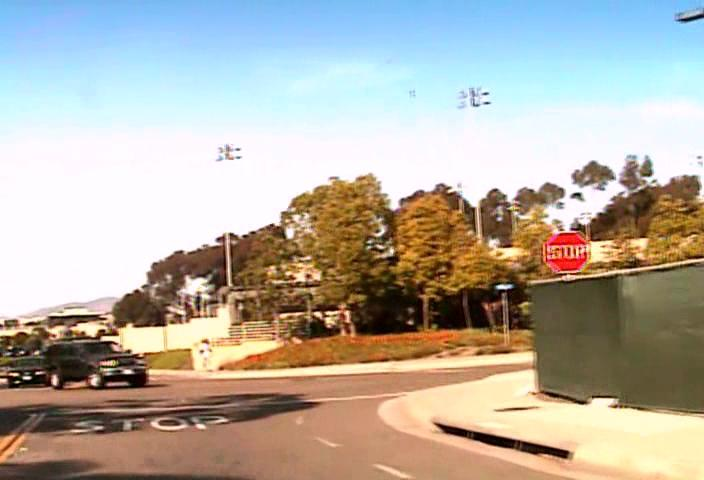stop: (542, 230, 590, 272)
